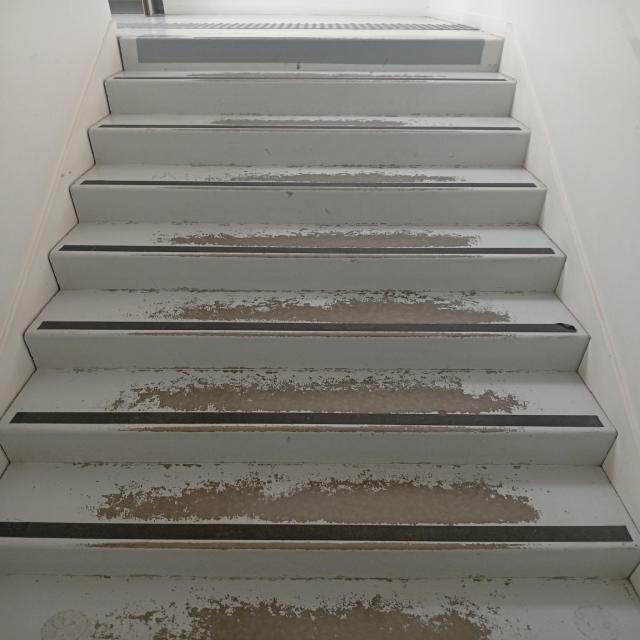Stairs: (0, 101, 640, 617)
